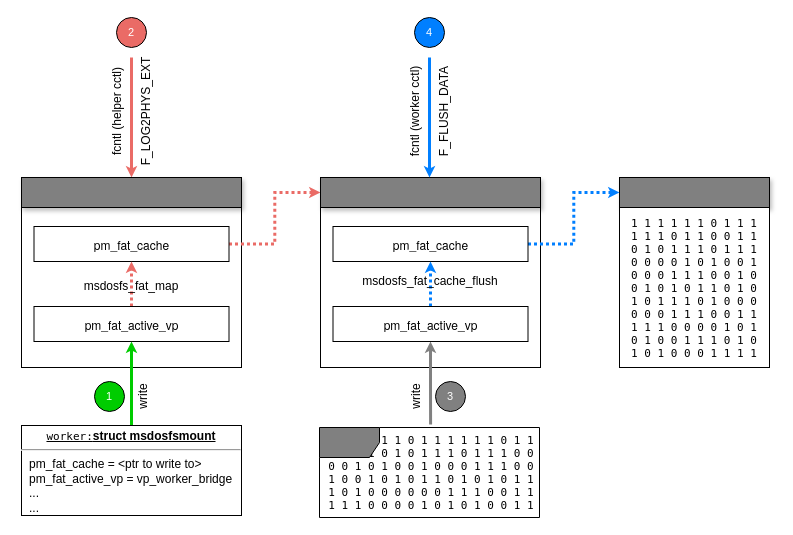
Image size: 793x535. Some labels were removed from this diagram. The centre of each missing label's shape, as x and y in pixels:
"data" goes at (429,472).
"Helper" goes at (132,193).
"Kernel memory" goes at (695,193).
"Worker" goes at (431,193).
